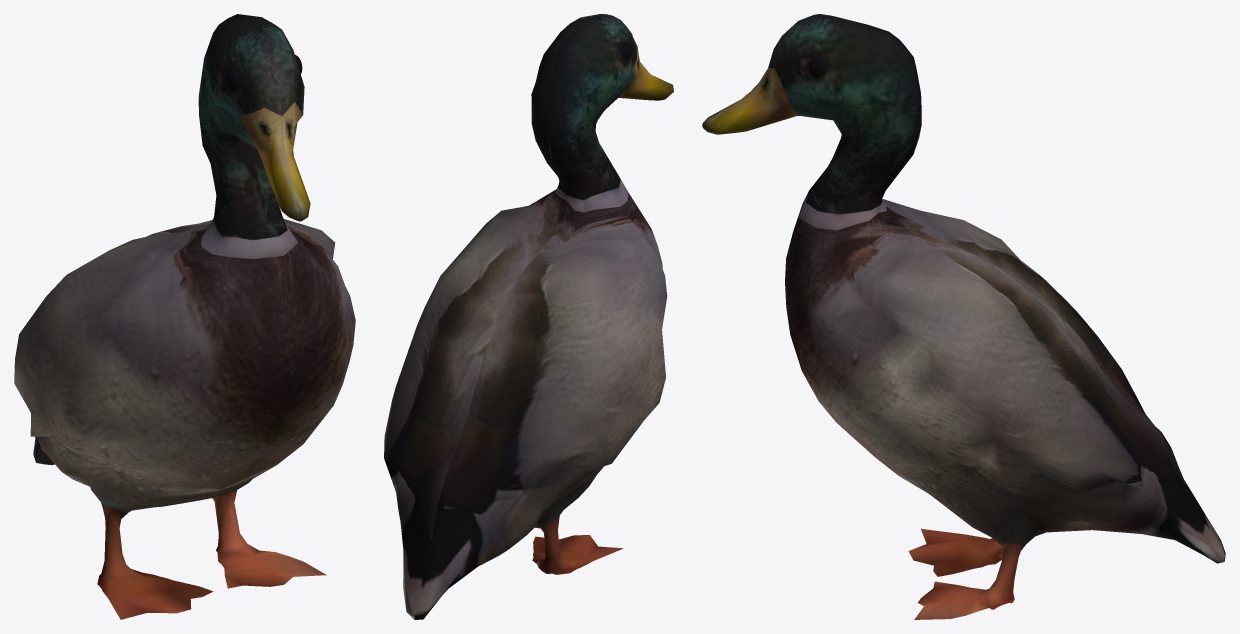
Rendered from duck.glb.
3 views of the same model, side by side, from view 1: azimuth 30°, elevation 25°; view 2: azimuth 150°, elevation 25°; view 3: azimuth 270°, elevation 25° (orthographic). The views are drawn at different scales.
Visible parts, largest first — view 1: redheadduck_lowpoly_0_0; view 2: redheadduck_lowpoly_0_0; view 3: redheadduck_lowpoly_0_0.
Boxes of the visible parts, x1,y1,x2,y2 form: redheadduck_lowpoly_0_0: [14, 14, 355, 619]; redheadduck_lowpoly_0_0: [384, 14, 673, 619]; redheadduck_lowpoly_0_0: [702, 14, 1225, 619].
Size of the model in its own units: 0.4355 by 0.9358 by 0.8018.
3 materials, 2 textured.
